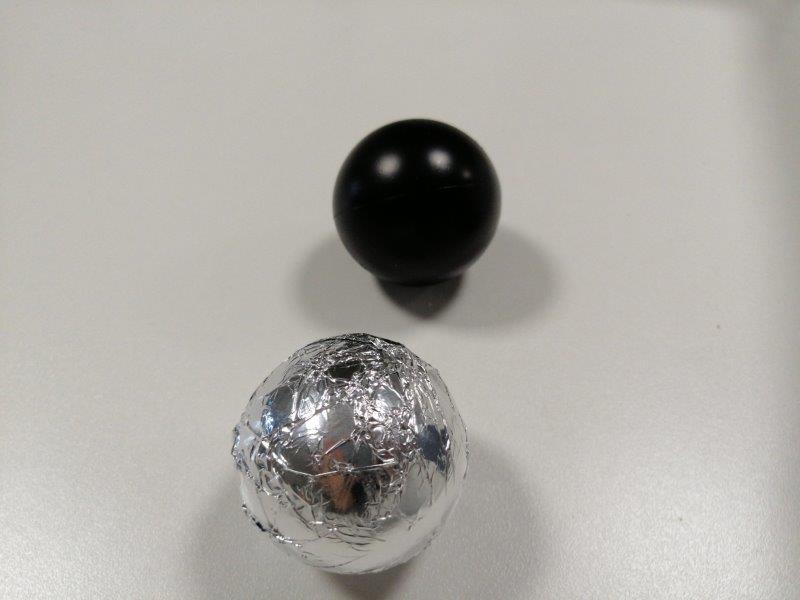bianca: (233, 332, 471, 575)
nera: (332, 118, 503, 281)
